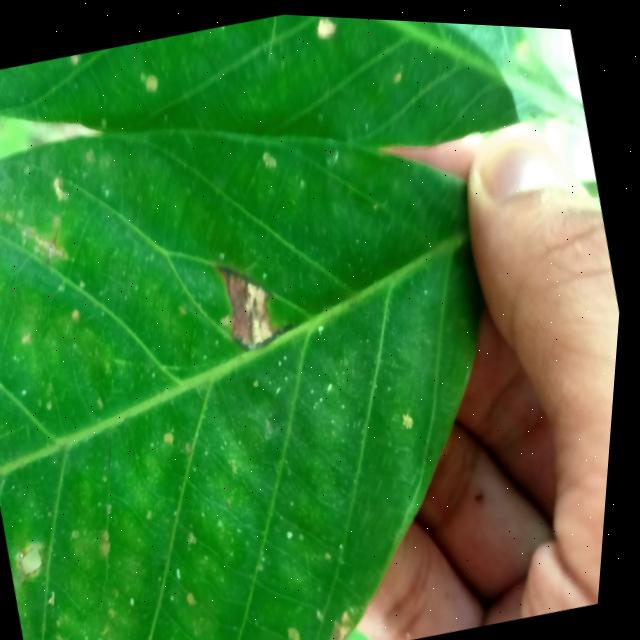Leaf-Blight: (220, 259, 285, 347)
